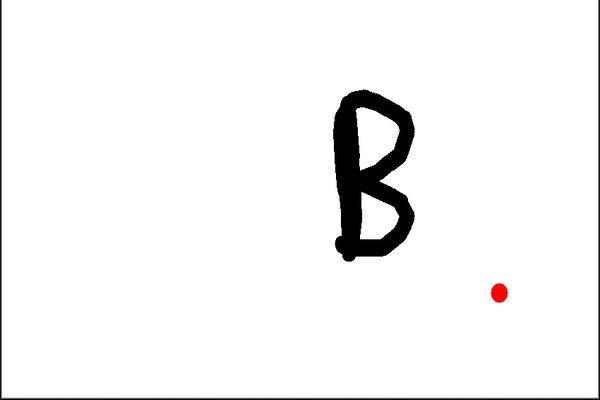B: (319, 82, 423, 267)
